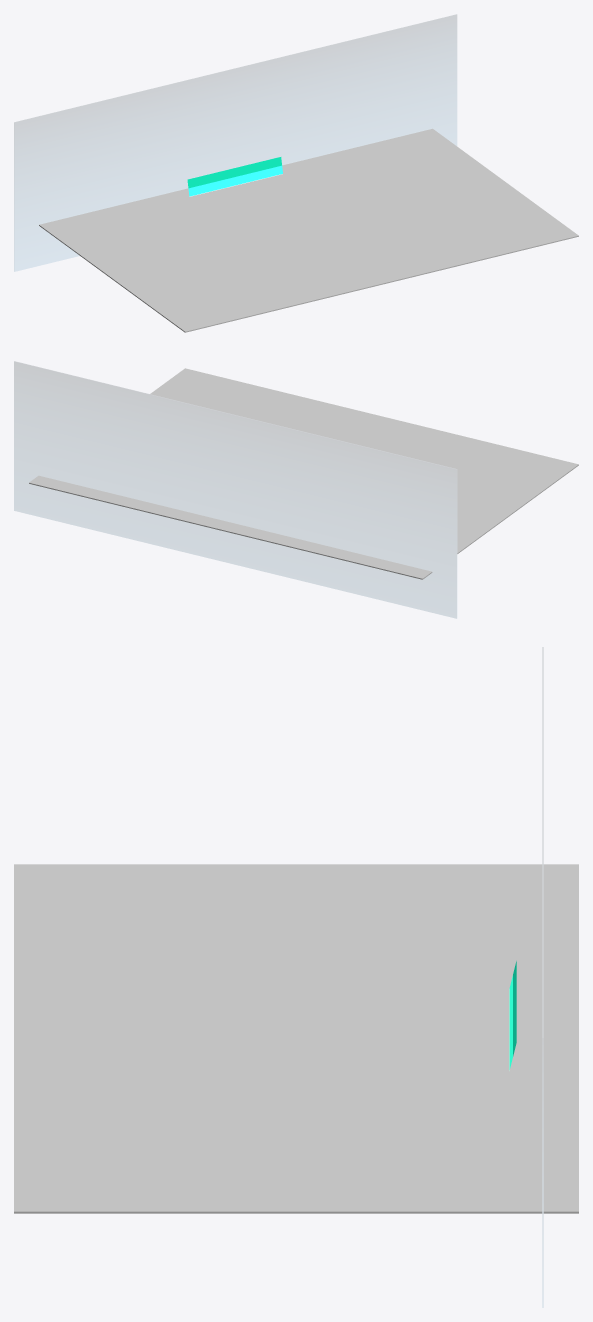
Rendered from f_gay.glb.
3 views of the same model, one above another, from view 1: azimuth 30°, elevation 25°; view 2: azimuth 150°, elevation 25°; view 3: azimuth 270°, elevation 25° (orthographic). The views are drawn at different scales.
Visible parts, largest first — view 1: Ground contact / transparent shadow receiver.033, Sky gradient / editable material.033, Flag cloth / full-bleed source fields.005; view 2: Sky gradient / editable material.033, Ground contact / transparent shadow receiver.033; view 3: Ground contact / transparent shadow receiver.033, Sky gradient / editable material.033.
Part boxes in pixels (x1,y1,x2,y2): Ground contact / transparent shadow receiver.033: (39,128,578,332); Sky gradient / editable material.033: (14,14,457,271); Flag cloth / full-bleed source fields.005: (187,157,282,196); Sky gradient / editable material.033: (14,361,457,618); Ground contact / transparent shadow receiver.033: (29,368,578,579); Ground contact / transparent shadow receiver.033: (14,864,578,1213); Sky gradient / editable material.033: (542,647,543,1307).
Size of the model in its own units: 180 by 58 by 110.
